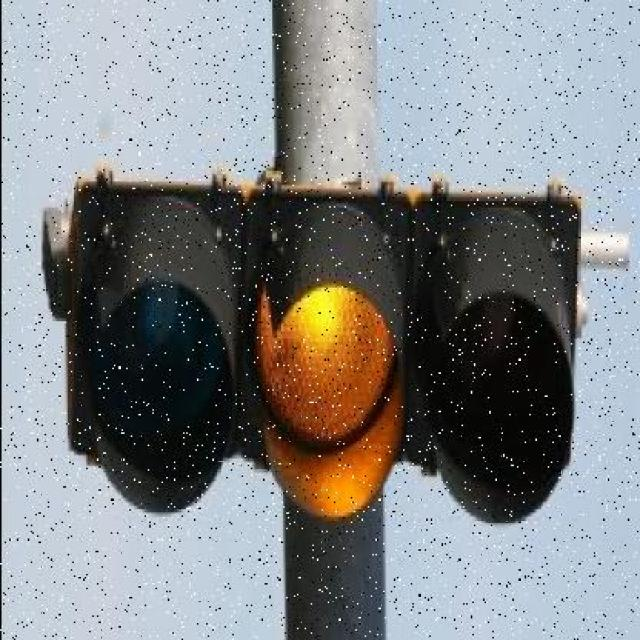yellow-light: (27, 157, 631, 544)
